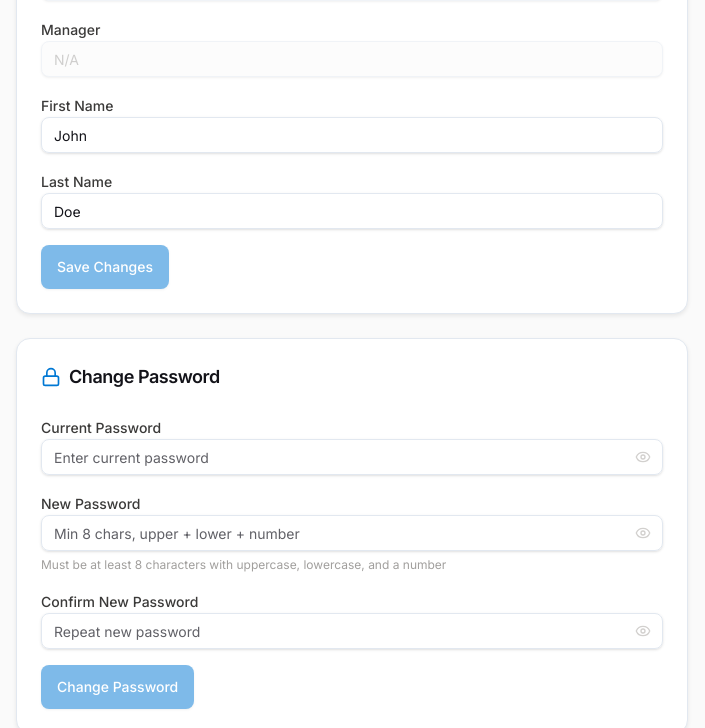
ProfilePage › password change › shows error for password too short
(page scrolled)
Check: the field showing "John" is shown, box [41,117,663,153]
Type "oldpass" into the password field labelled "Current Password" at (352, 457), box [41,439,663,475]
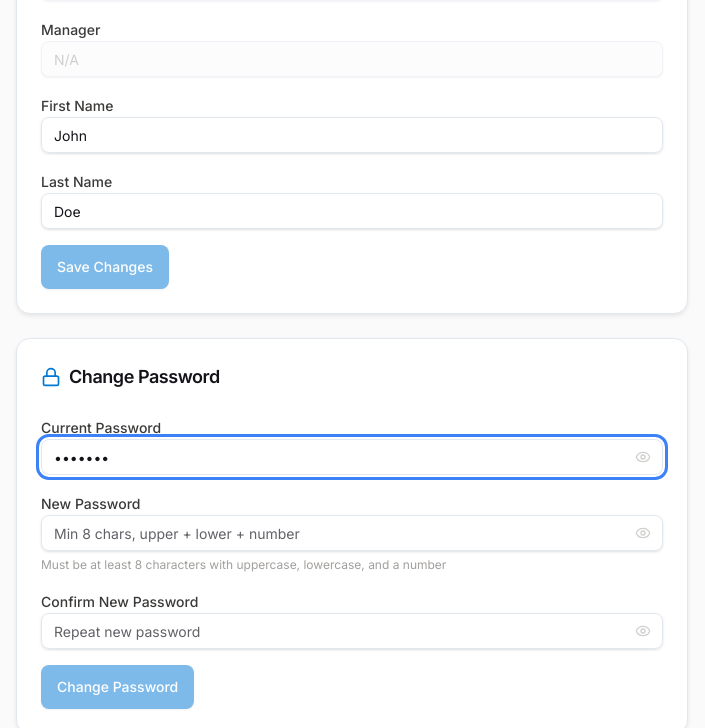
Type "short" into the password field labelled "New Password" at (352, 533), box [41,515,663,551]
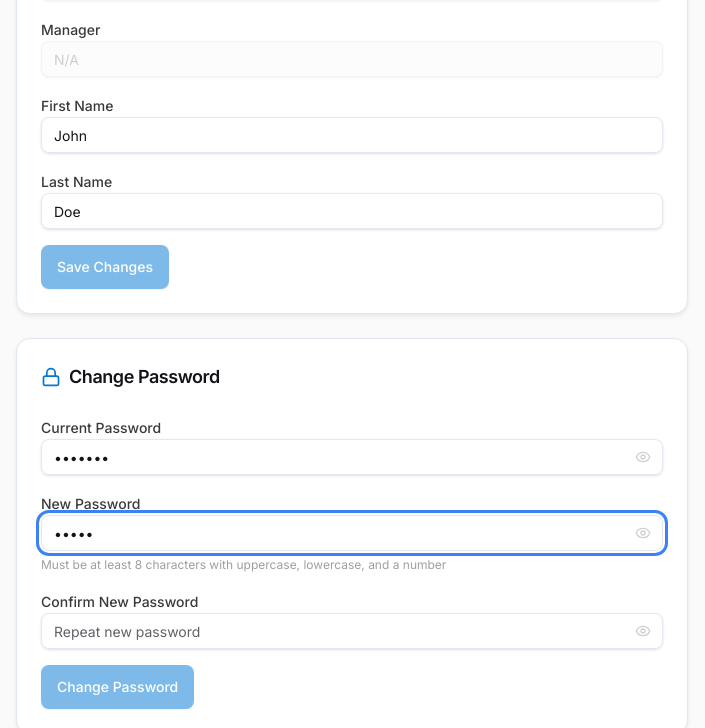
Type "short" into the password field labelled "Confirm New Password" at (352, 631), box [41,613,663,649]
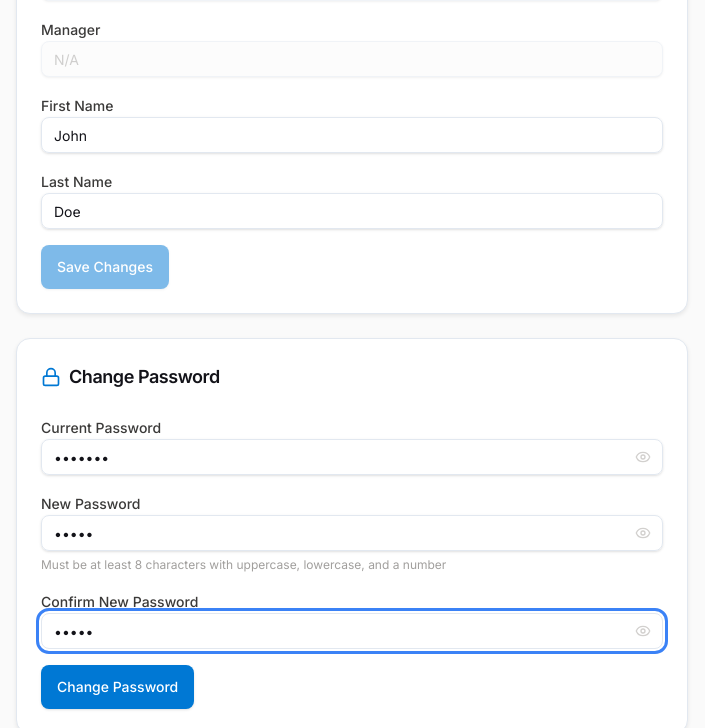
Click the button "Change Password" at (118, 687), box [41,665,194,709]
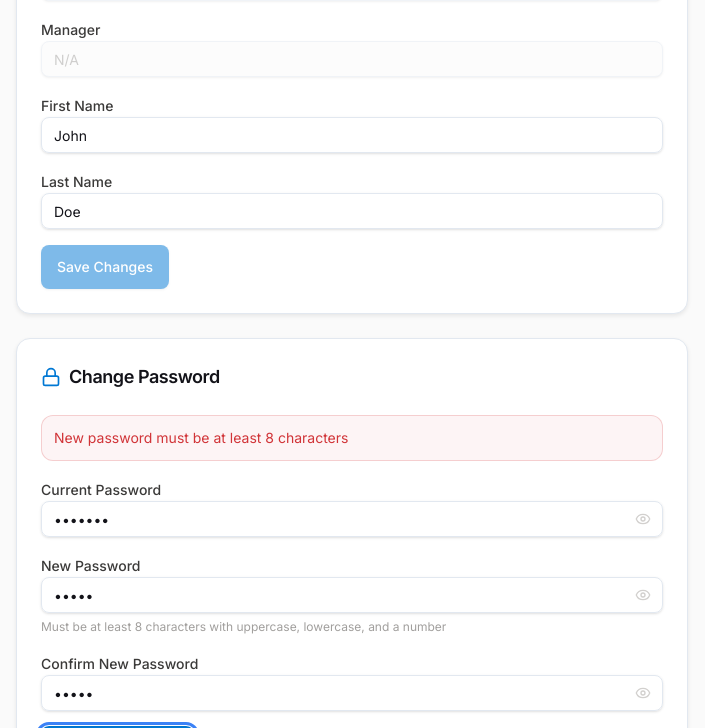
Check: the text "New password must be at least 8 characters" is shown, box [41,415,663,461]
